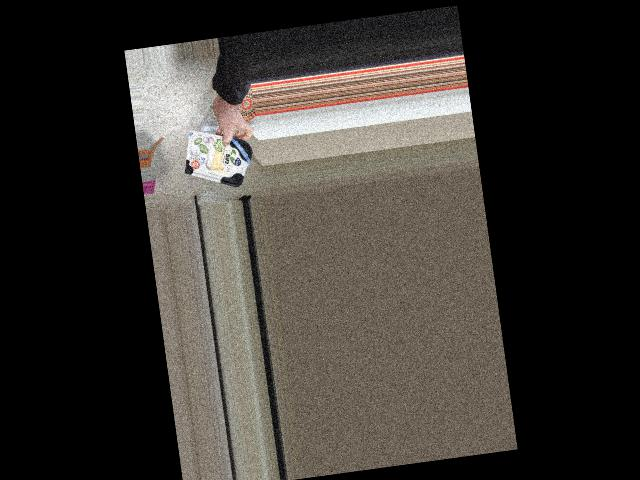cheese: (181, 132, 258, 189)
